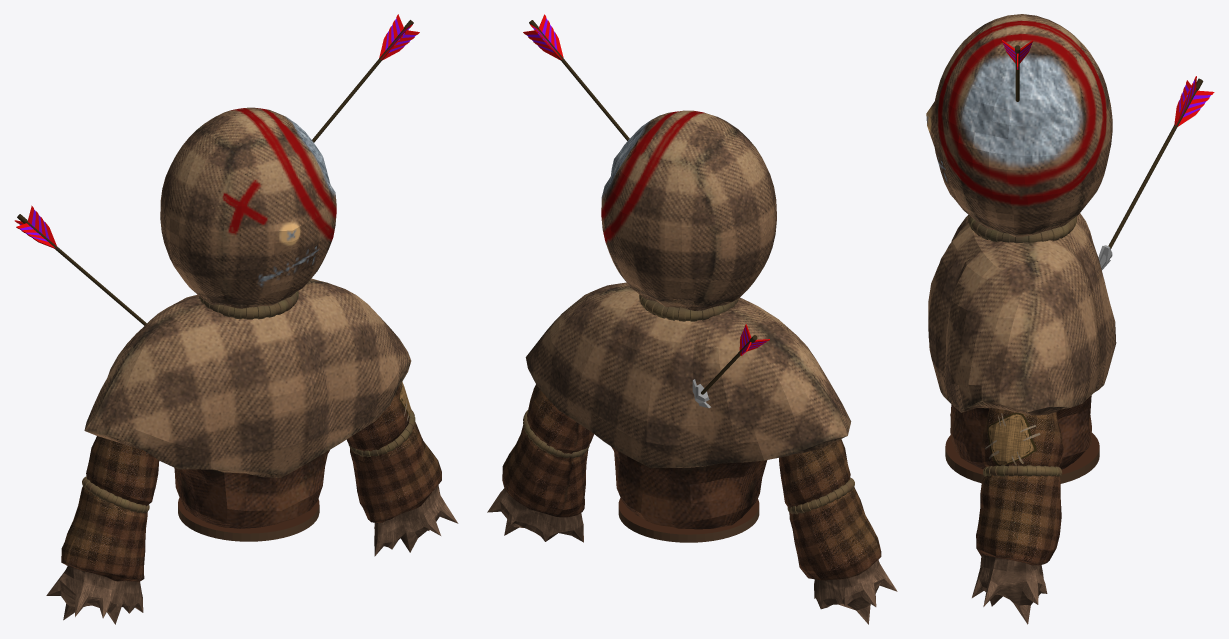
Rendered from DummyCombinedTop.glb.
3 renders of one model, left to right at view 1: azimuth 30°, elevation 25°; view 2: azimuth 150°, elevation 25°; view 3: azimuth 270°, elevation 25°, orthographic. The views are drawn at different scales.
Parts seen in each view (by area): view 1: Cylinder.008; view 2: Cylinder.008; view 3: Cylinder.008.
Boxes of the visible parts, box(x1,y1,x2,y2) form: Cylinder.008: box(14, 14, 458, 624); Cylinder.008: box(487, 14, 897, 624); Cylinder.008: box(926, 14, 1214, 624).
Bounding box in the file's own units: 1.15 × 1.47 × 0.6742.
Materials: 5 (1 with a texture image).
